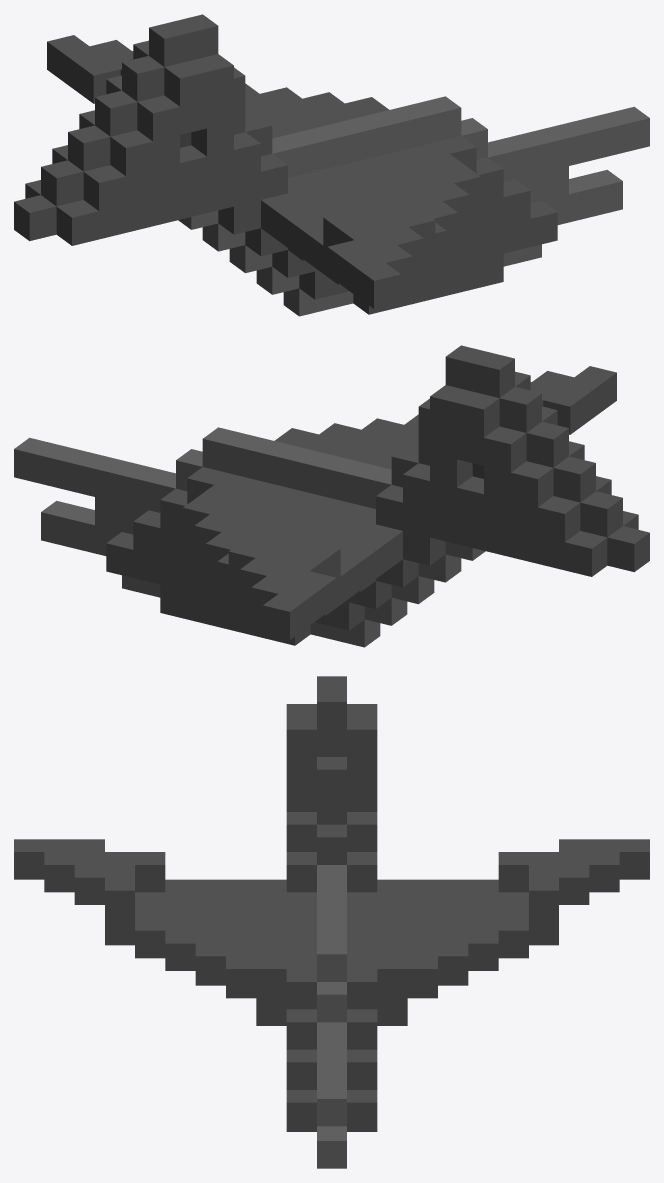
Rendered from Bird.gltf.
3 views of the same model, one above another, from view 1: azimuth 30°, elevation 25°; view 2: azimuth 150°, elevation 25°; view 3: azimuth 270°, elevation 25° (orthographic). The views are drawn at different scales.
Bounding box in the file's own units: 2.3 × 1.1 × 2.1.
1 material, 1 textured.
